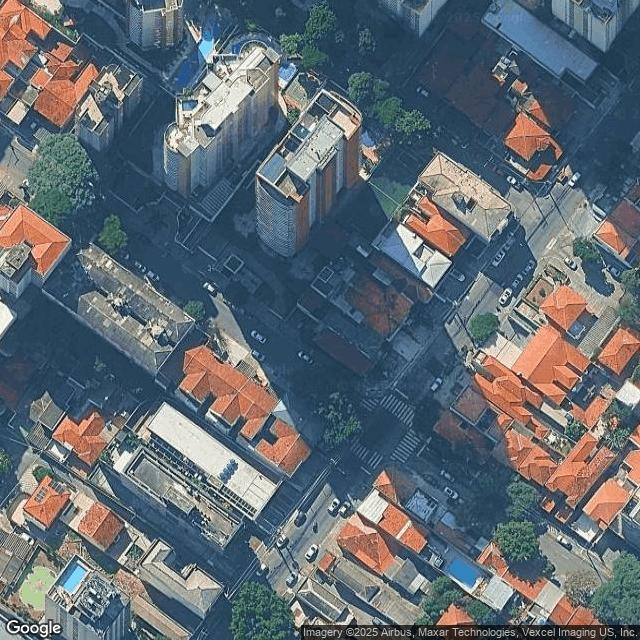pool: (452, 571, 482, 592), (71, 584, 88, 607), (203, 50, 213, 73), (273, 52, 275, 81)
